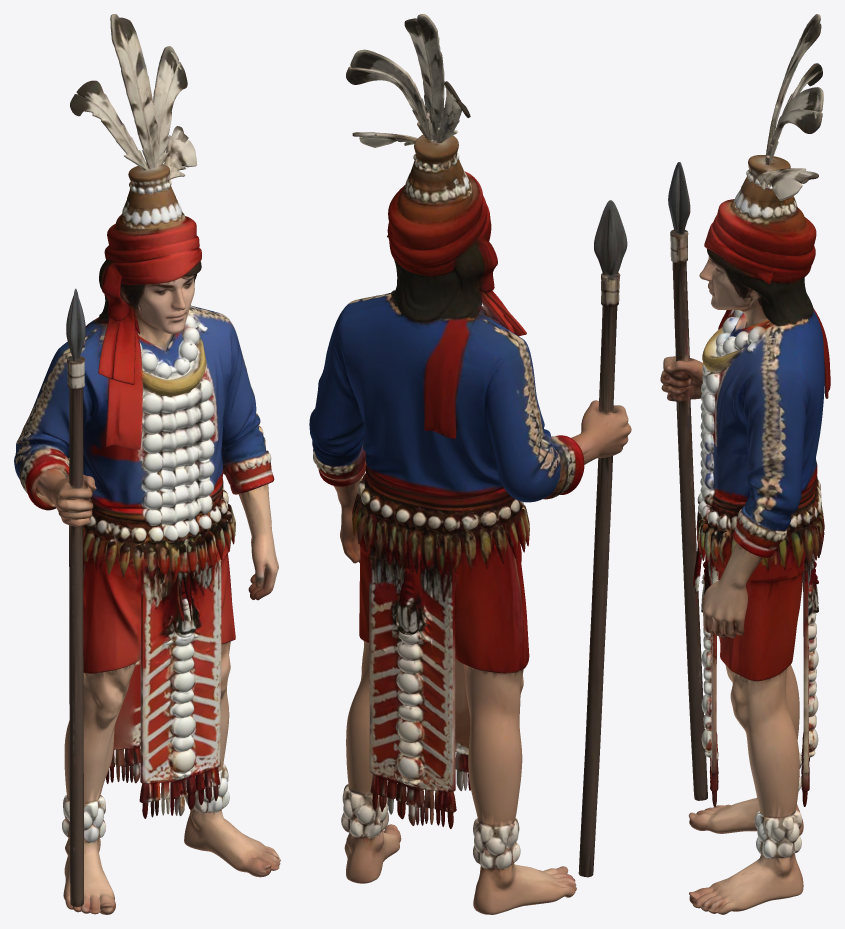
The model's file is dayak-uud-danum.glb.
The picture shows the model from 3 angles, left to right: view 1: azimuth 30°, elevation 25°; view 2: azimuth 150°, elevation 25°; view 3: azimuth 270°, elevation 25°; orthographic projection. The views are drawn at different scales.
Parts seen in each view (by area): view 1: Object_4; view 2: Object_4; view 3: Object_4.
Boxes of the visible parts, box(x1,y1,x2,y2) form: Object_4: box(14, 14, 280, 914); Object_4: box(309, 14, 631, 914); Object_4: box(660, 14, 830, 914).
Size of the model in its own units: 0.3648 by 1.16 by 0.2113.
1 material, 1 textured.
